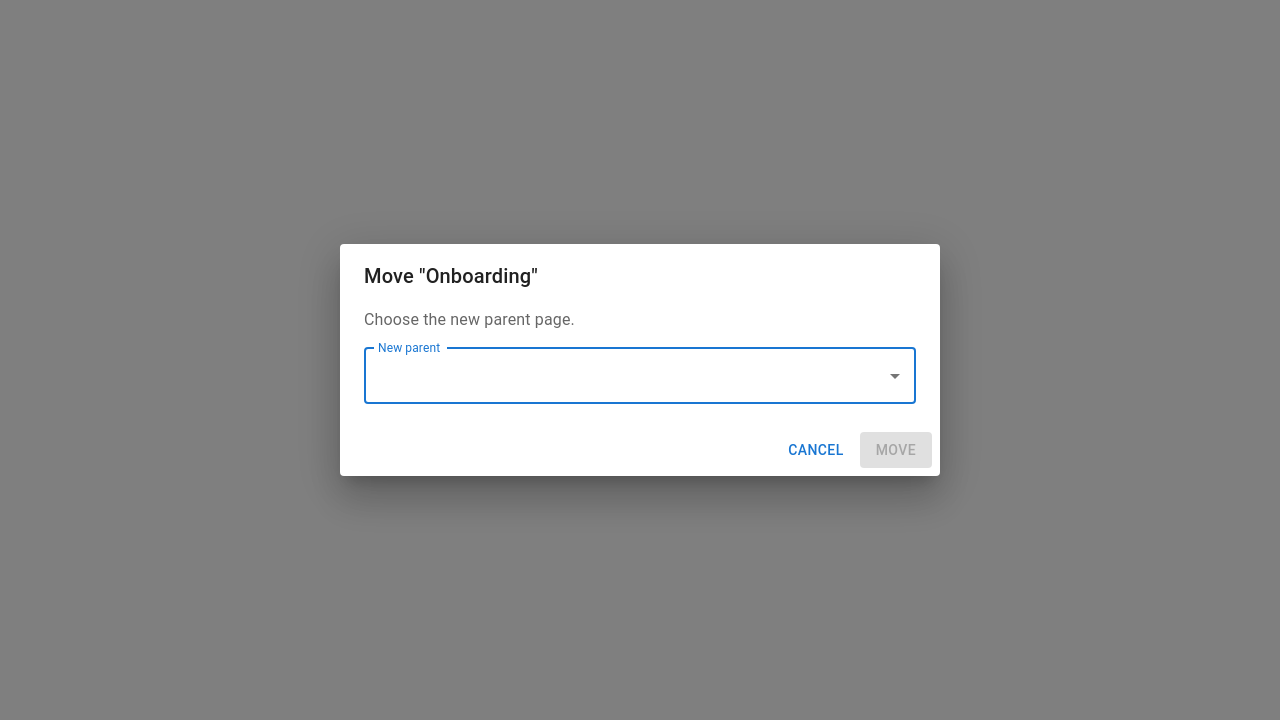
Test: MovePageDialog › warns when moving away from a restricted parent removes a restriction
Press the mouse on the dropdown labelled "New parent" at (625, 376), box [373, 357, 877, 395]
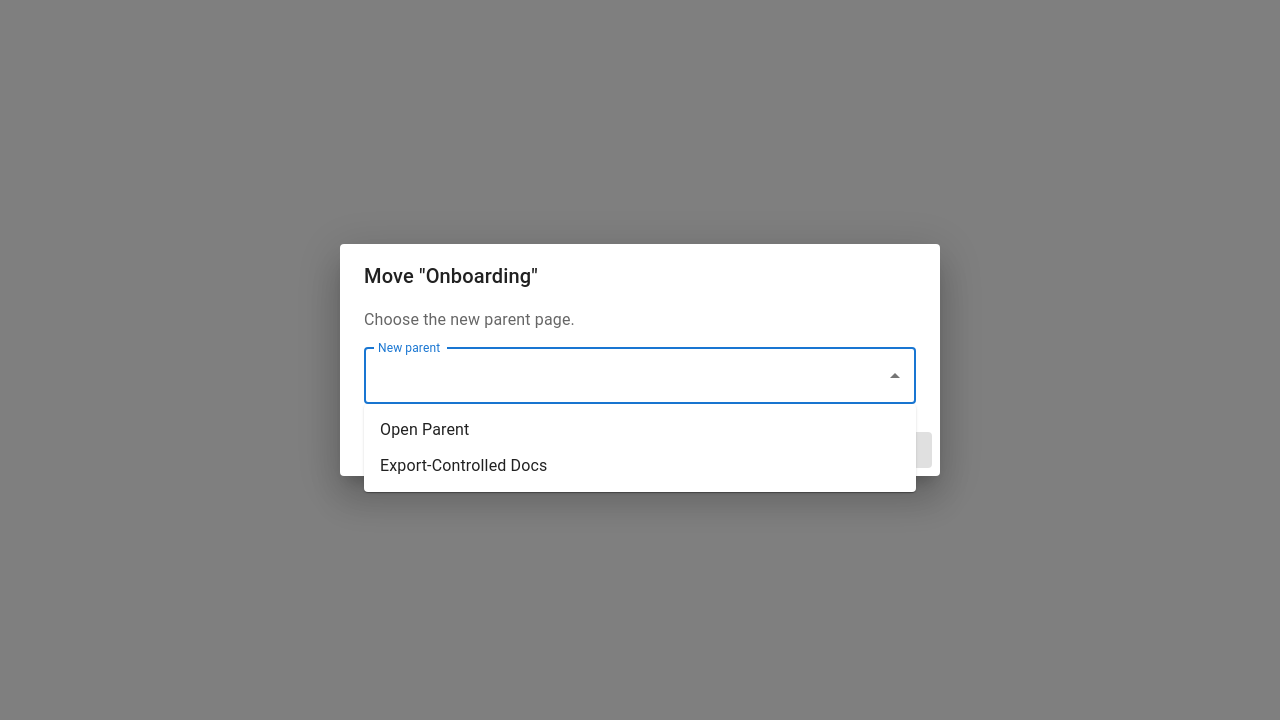
Type "Open Parent" into the dropdown labelled "New parent" at (625, 376), box [373, 357, 877, 395]
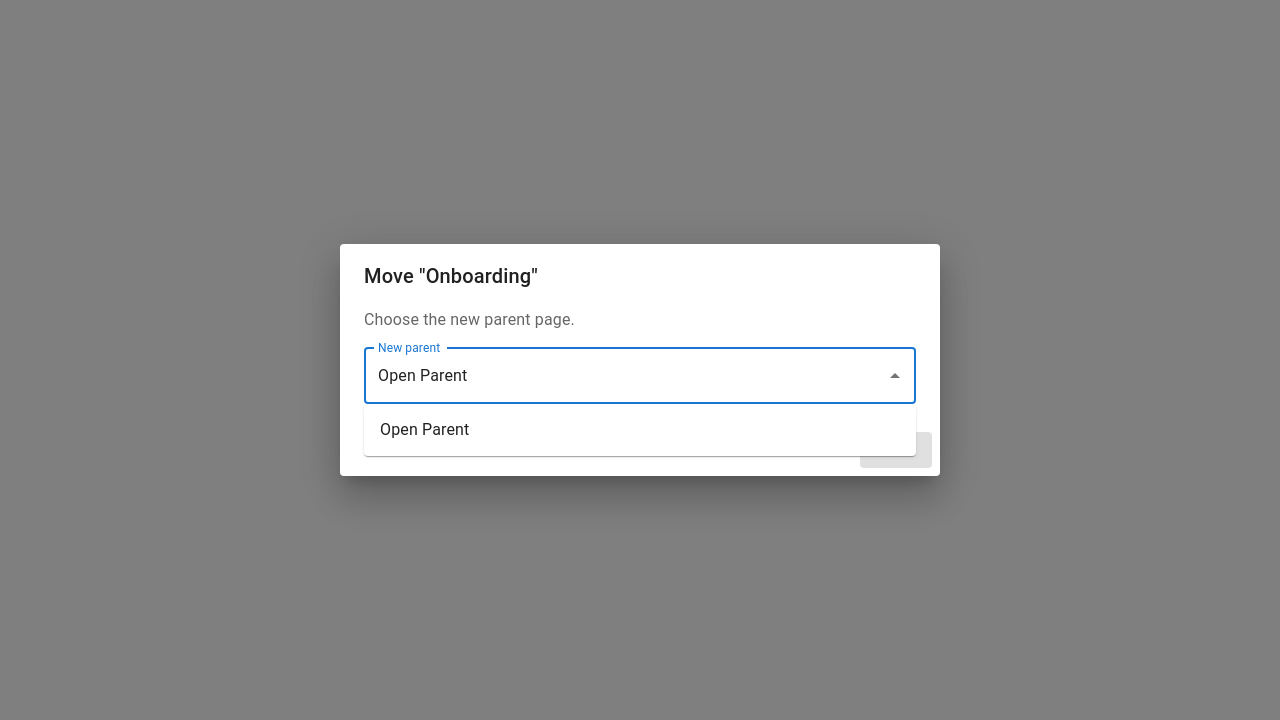
Click the option "Open Parent" at (425, 430), box [380, 420, 470, 439]
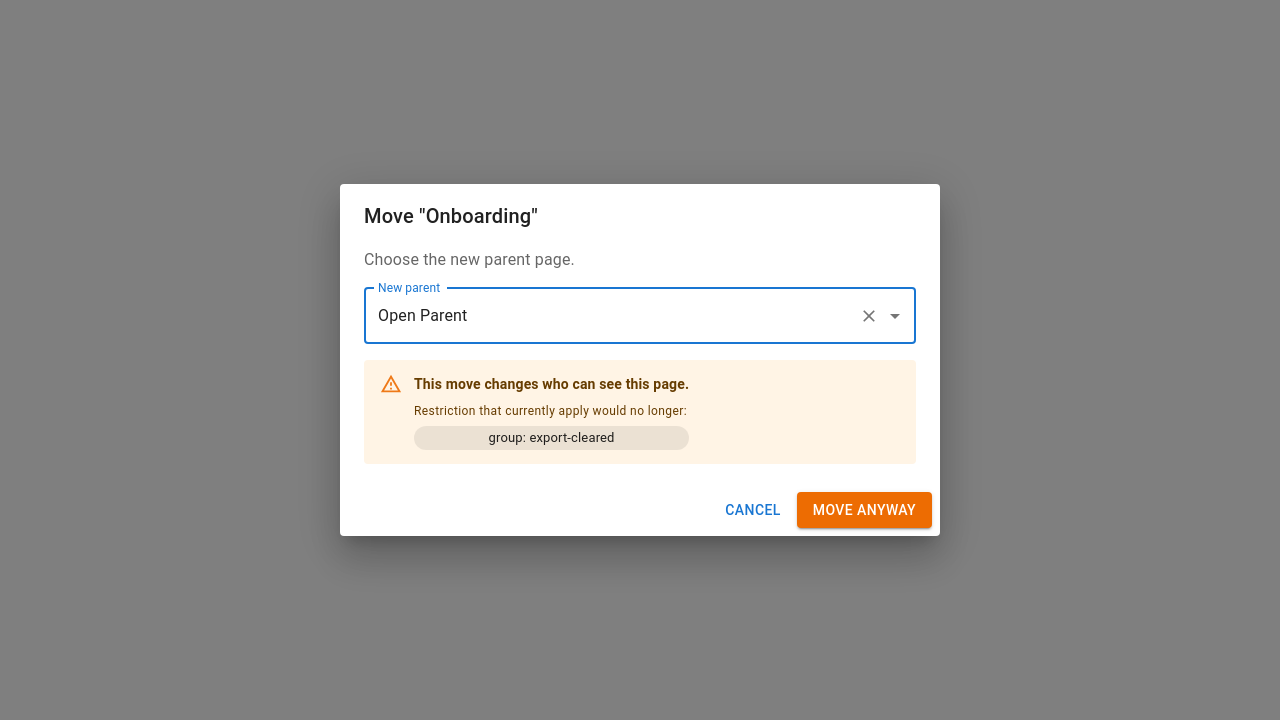
Expected: the text "This move changes who can see this page." is shown, [414, 374, 689, 394]
Expected: the text "Restriction that currently apply would no longer:" is shown, [414, 402, 689, 422]
